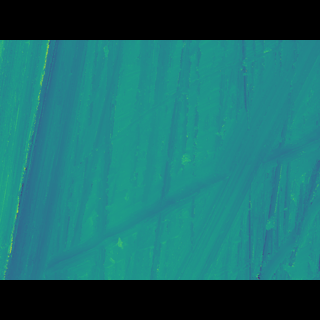Loch: (0, 70, 319, 248)
